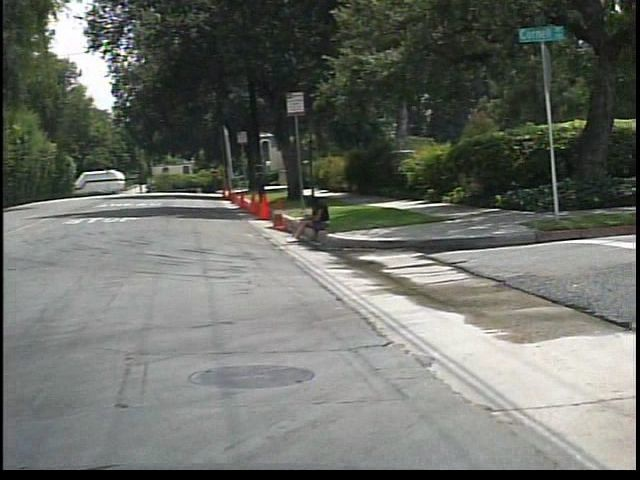person: (287, 192, 342, 246)
